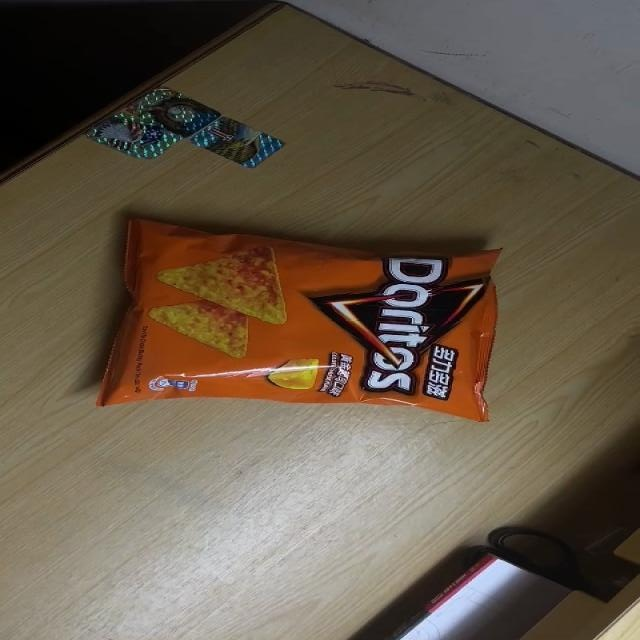Doritos: (96, 212, 505, 424)
